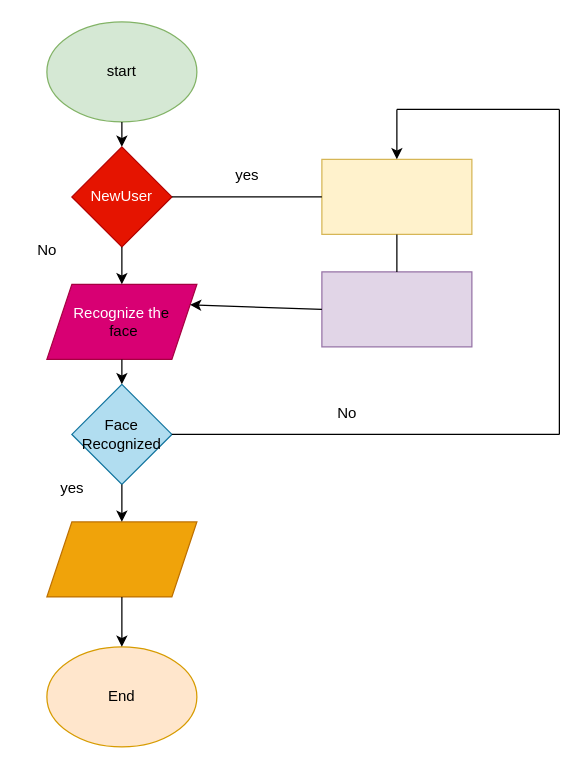
The diagram is 583 pixels wide and 769 high, and some of its shapes have lost their labels. The centre of each missing label's shape, as x and y in pixels:
"Give your photograph" goes at pixel 396 196.
"store the face data in folder on your name" goes at pixel 396 309.
"stored in csv file with Registration number &Date Time of Entry" goes at pixel 121 559.
